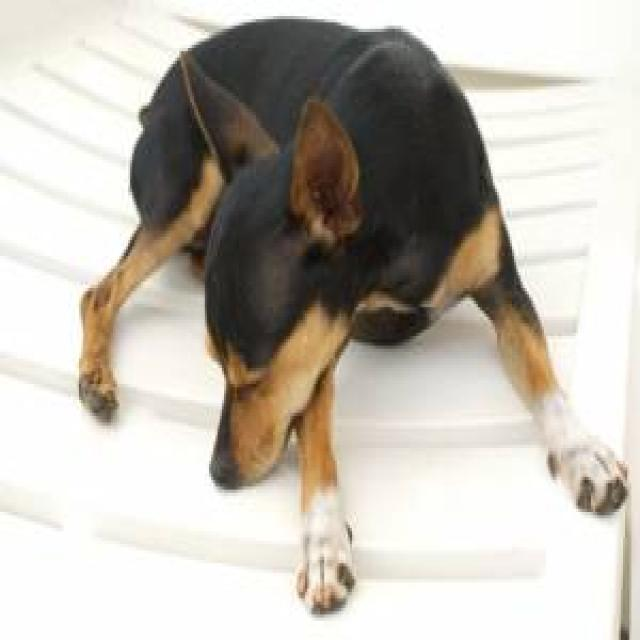dog-miniature_pinscher: (68, 3, 634, 624)
